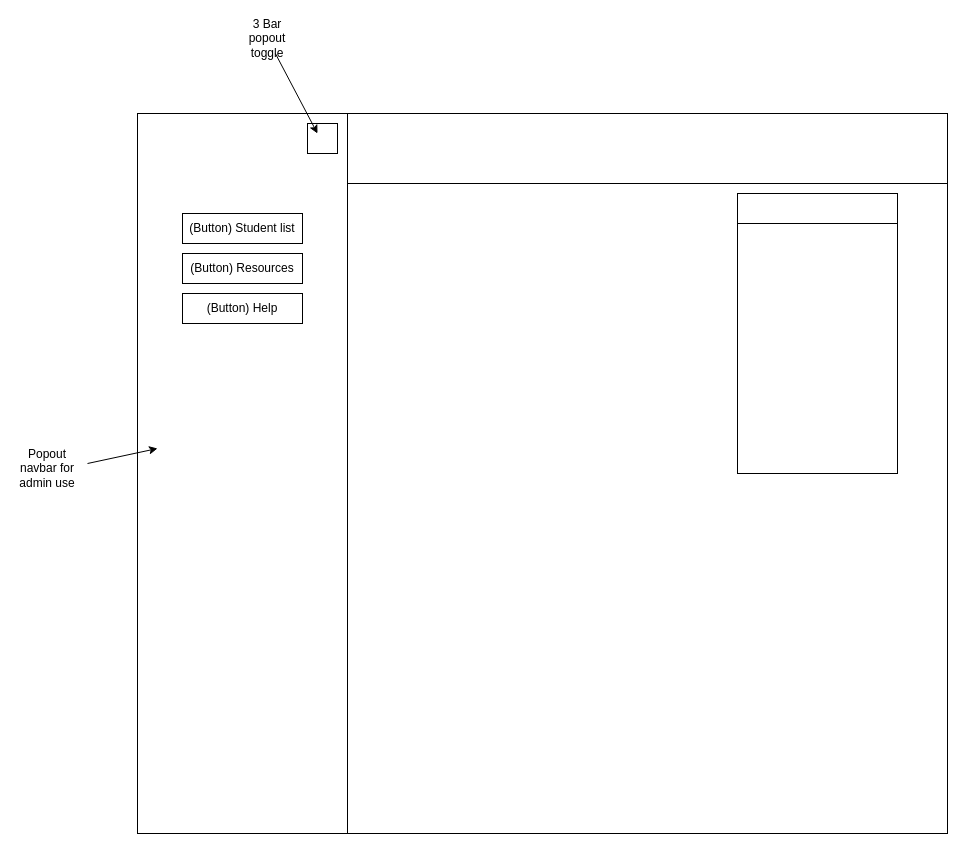
Some shapes in this 965 by 851 pixel diagram are drawn without their labels. Each missing label, with the centre of its shape:
(Dynamic List) Current Students: pixel 817 348
(Text) "Students": pixel 817 208
